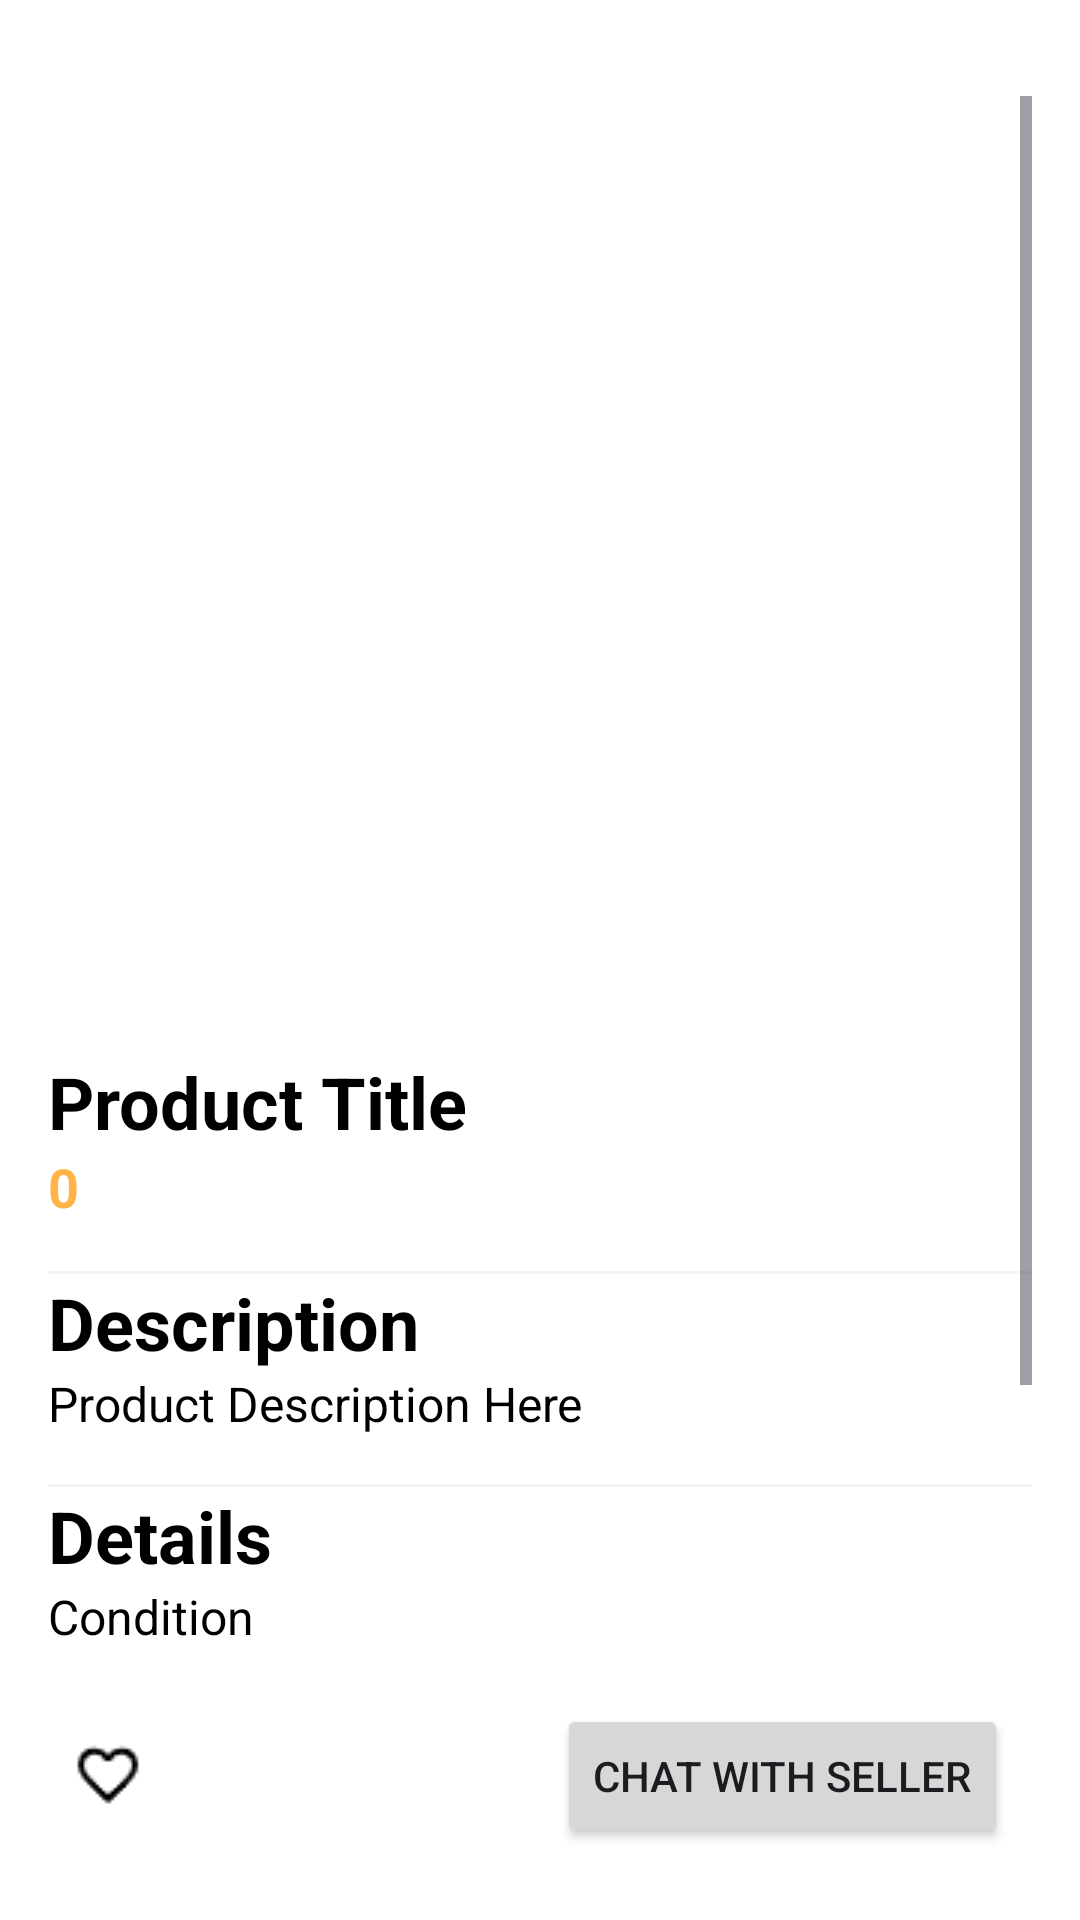

Named icons in this screenshot (1080px x 1920px) and their bounding boxes, (x1, y1, x2, y2):
product detail favorite: (77, 1746, 139, 1804)
